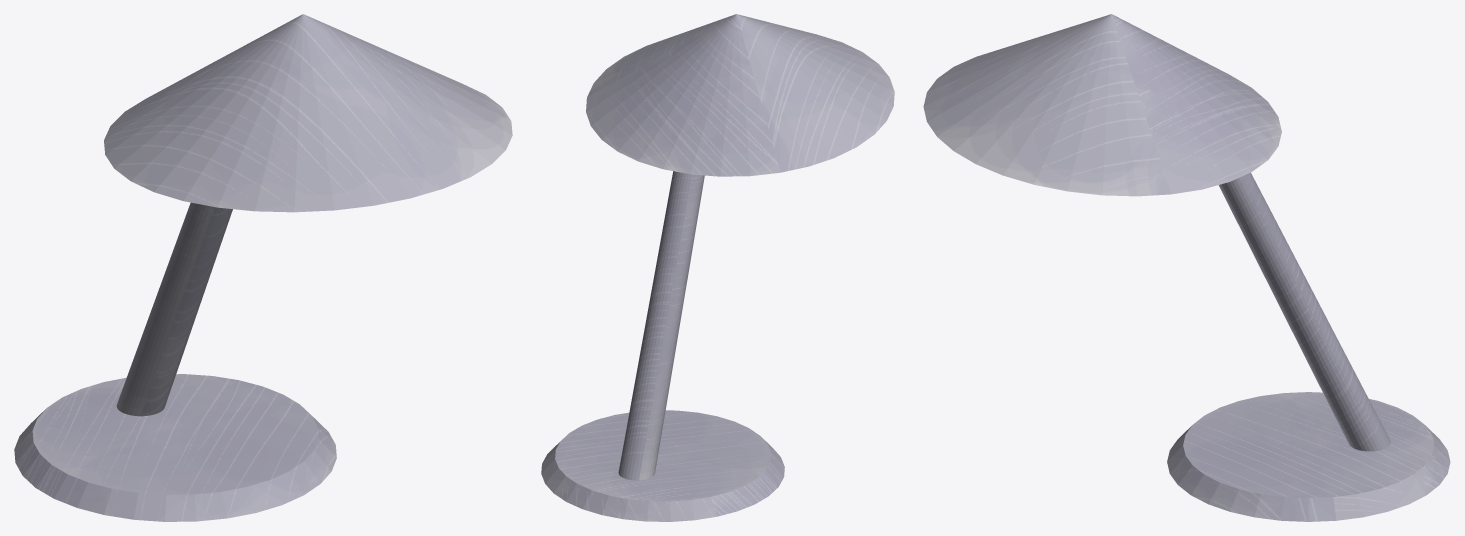
File: desklamp.glb
3 renders of one model, left to right at view 1: azimuth 30°, elevation 25°; view 2: azimuth 150°, elevation 25°; view 3: azimuth 270°, elevation 25°, orthographic. The views are drawn at different scales.
Parts seen in each view (by area): view 1: Cylinder; view 2: Cylinder; view 3: Cylinder.
Part boxes in pixels (x1,y1,x2,y2): Cylinder: (14, 14, 512, 521); Cylinder: (541, 14, 894, 521); Cylinder: (923, 14, 1450, 521).
Bounding box in the file's own units: 1.3 × 1.82 × 1.91.
Materials: 1 (1 with a texture image).
